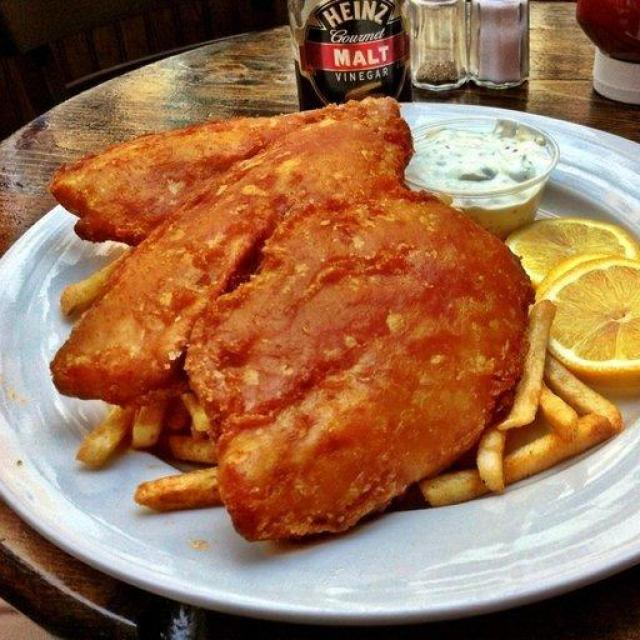food_waste: (50, 102, 640, 546)
